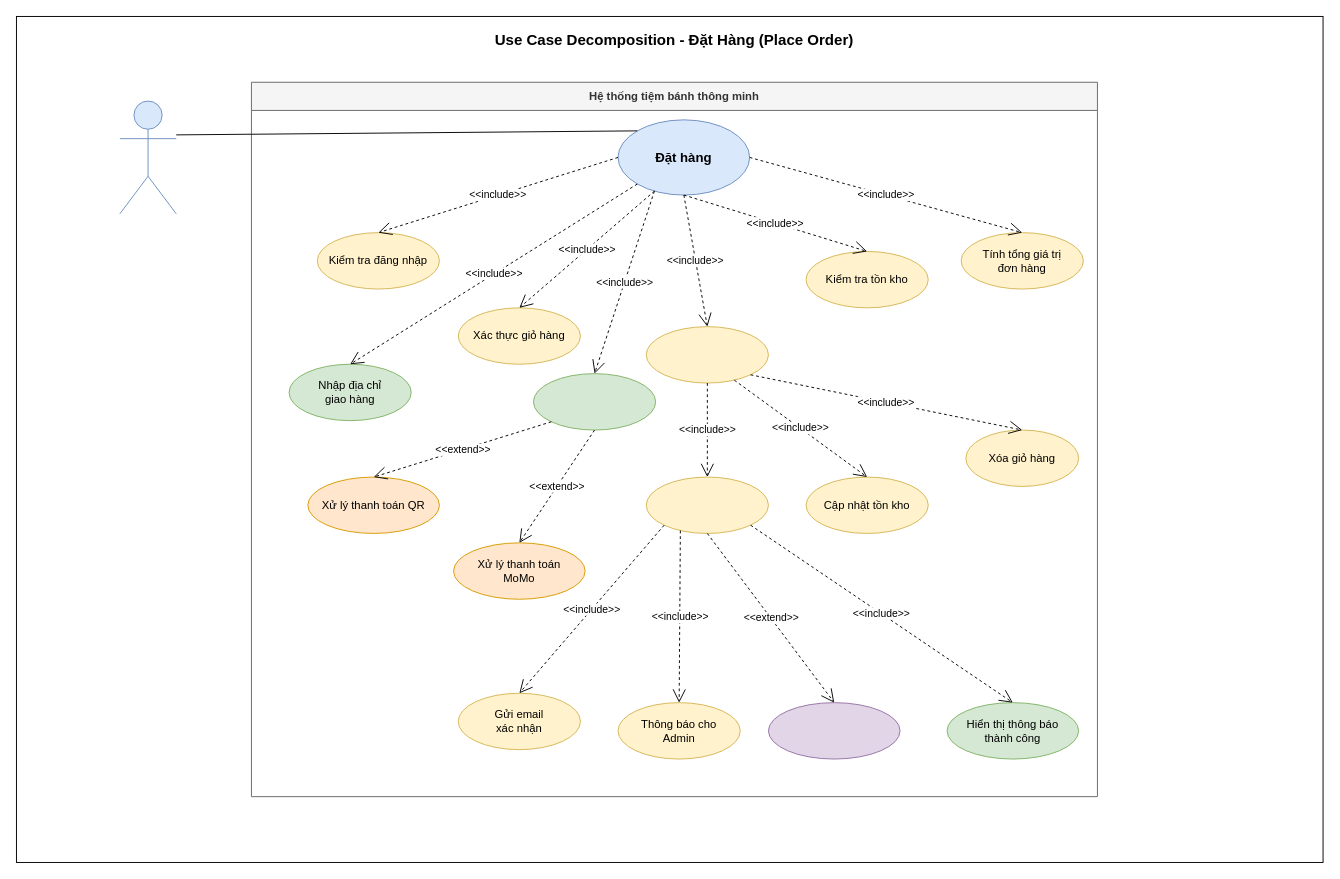
This 1340x879 diagram has some shape labels left out. The centre of each missing label's shape, as x and y in pixels:
"Chọn phương thức thanh toán" goes at [594,401].
"Khách hàng" goes at [147,157].
"Phân công nhân viên (tùy chọn)" goes at [834,730].
"Tạo đơn hàng" goes at [706,354].
"Xác minh thanh toán" goes at [706,504].
